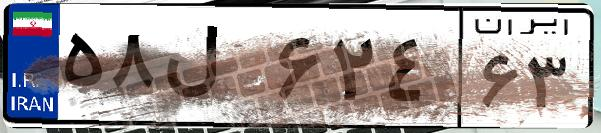2: (330, 28, 385, 110)
3: (525, 38, 570, 115)
4: (385, 28, 445, 110)
5: (57, 26, 110, 100)
6: (270, 28, 330, 110), (475, 38, 525, 113)
8: (110, 28, 158, 98)
ل: (158, 20, 270, 120)
